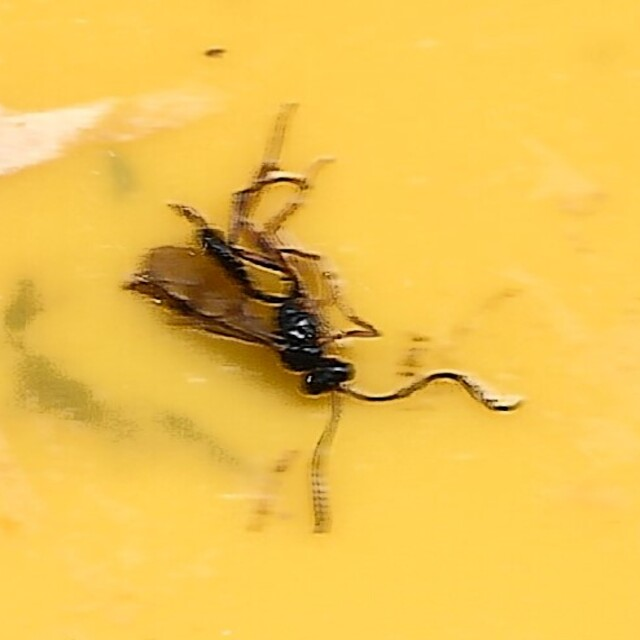Hymenoptera: (130, 112, 510, 528)
